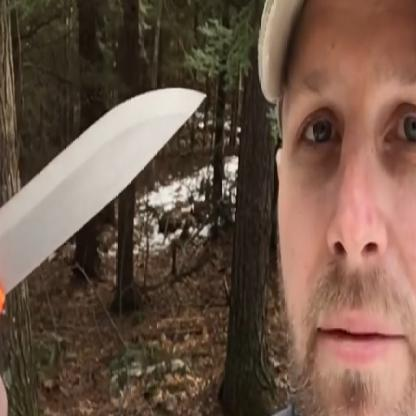knife: (0, 70, 217, 415)
